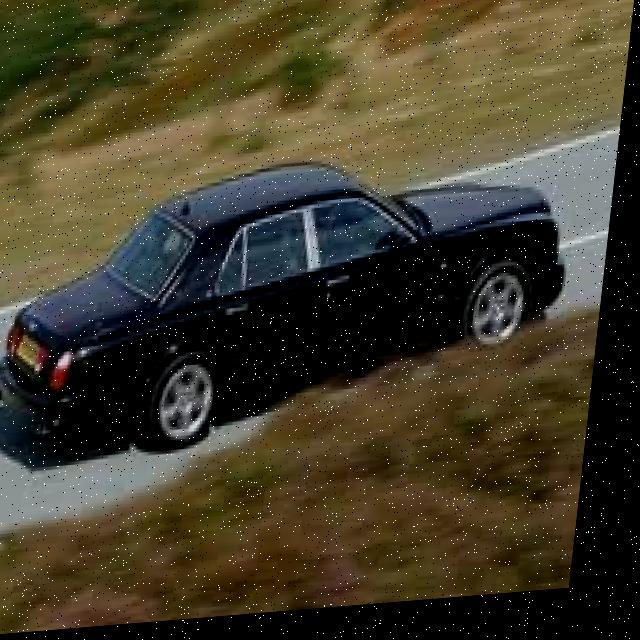car: (0, 123, 585, 460)
